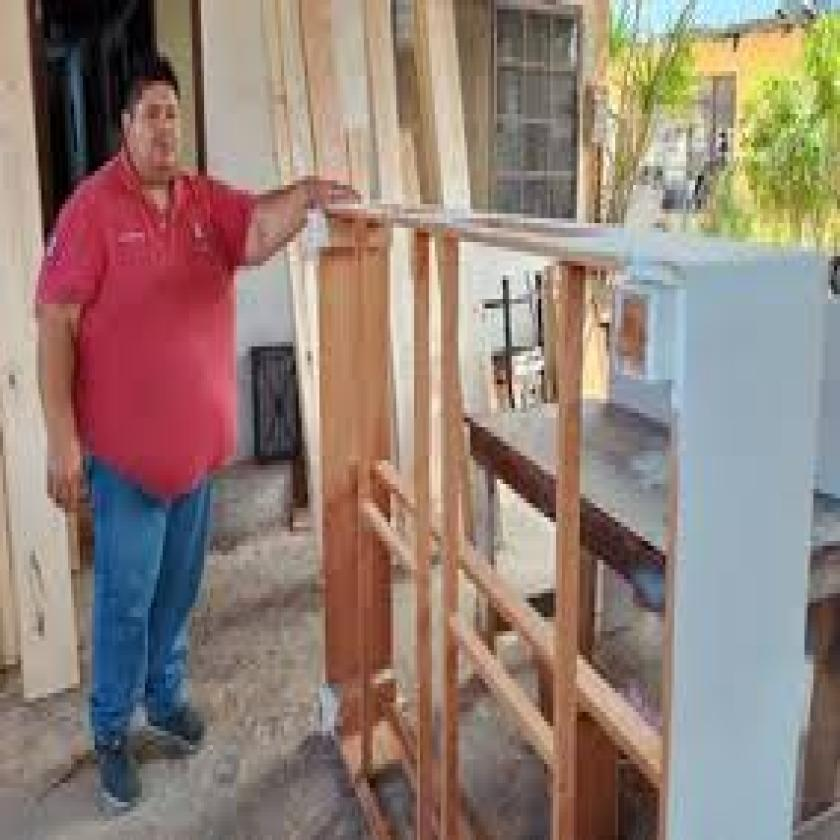Sin_casco: (114, 46, 195, 214)
